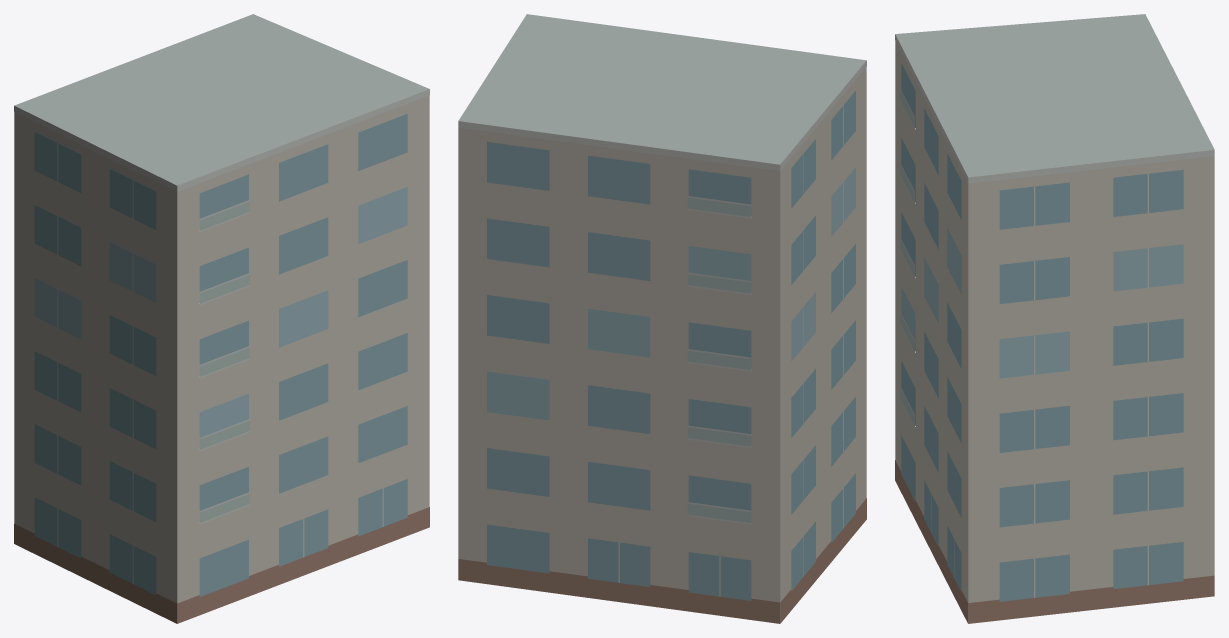
File: survey-upis-32741703.glb
3 views of the same model, side by side, from view 1: azimuth 30°, elevation 25°; view 2: azimuth 150°, elevation 25°; view 3: azimuth 270°, elevation 25° (orthographic). The views are drawn at different scales.
Parts seen in each view (by area): view 1: survey-upis-32741703.tmp; view 2: survey-upis-32741703.tmp; view 3: survey-upis-32741703.tmp.
Boxes of the visible parts, x1,y1,x2,y2 form: survey-upis-32741703.tmp: [14, 14, 429, 623]; survey-upis-32741703.tmp: [458, 14, 866, 623]; survey-upis-32741703.tmp: [895, 14, 1214, 623].
Size of the model in its own units: 13.67 by 17.4 by 11.3.
